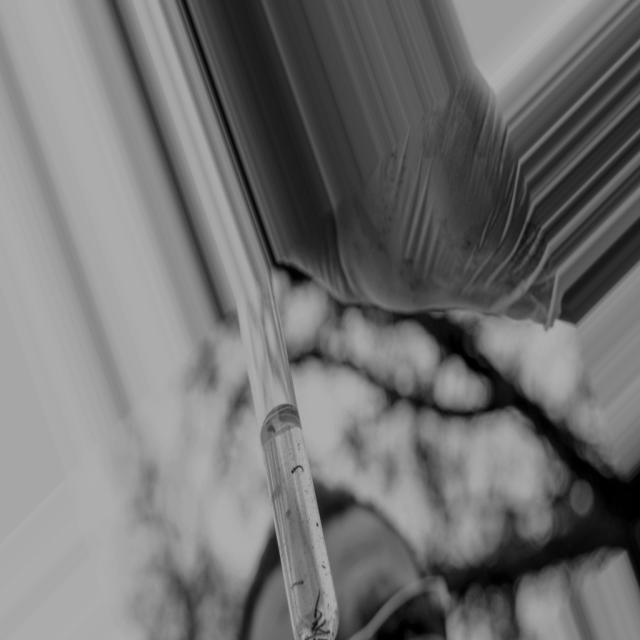larvas: (313, 591, 322, 619), (312, 612, 323, 626), (290, 580, 304, 590), (305, 633, 320, 640), (317, 619, 326, 630), (291, 465, 303, 473), (311, 622, 318, 631), (320, 629, 330, 634)
